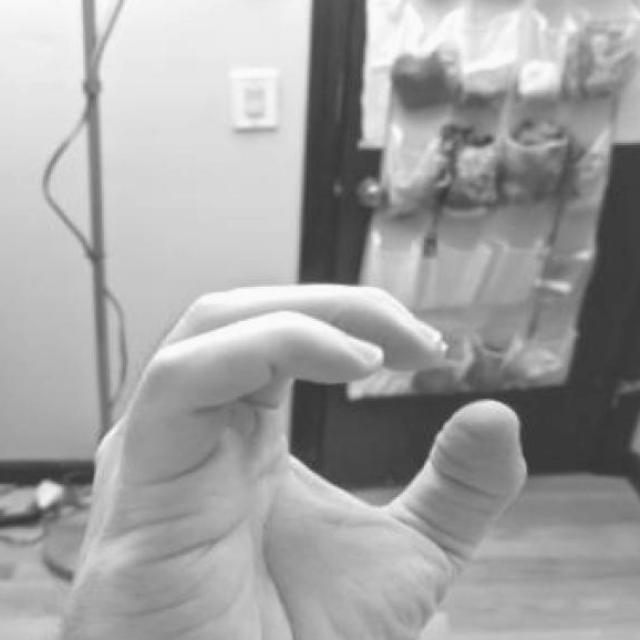C: (58, 273, 548, 640)
